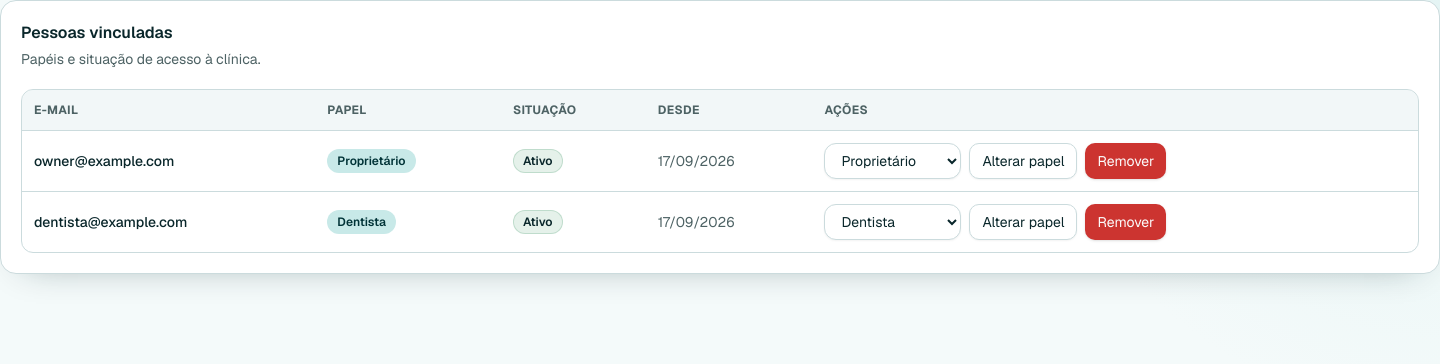
it: MembersTable › lets OWNER change any role
Select "Assistente" in the dropdown named "Novo papel de dentista@example.com". click: (893, 222)
box: left=824, top=204, right=961, bottom=240
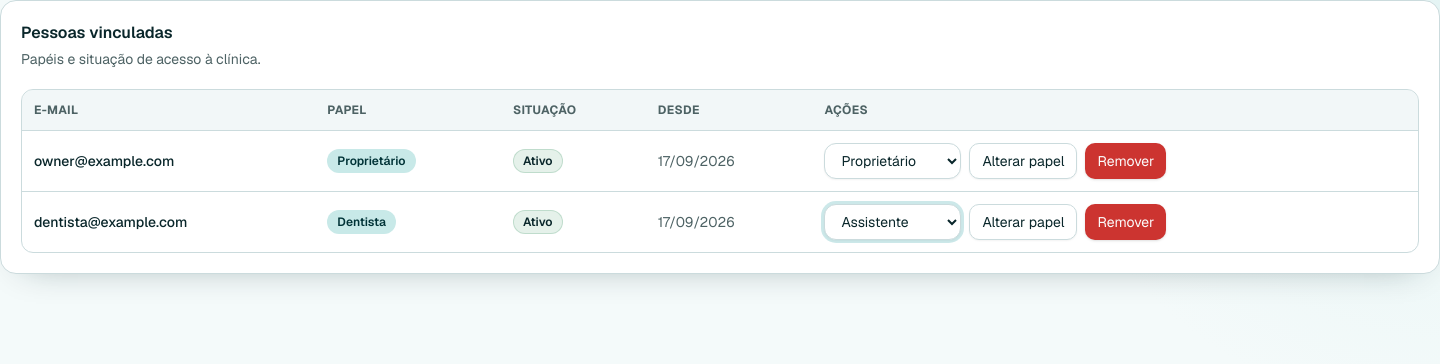
Click the button with aria-label "Alterar papel de dentista@example.com". click: (1023, 222)
box: left=969, top=204, right=1078, bottom=240
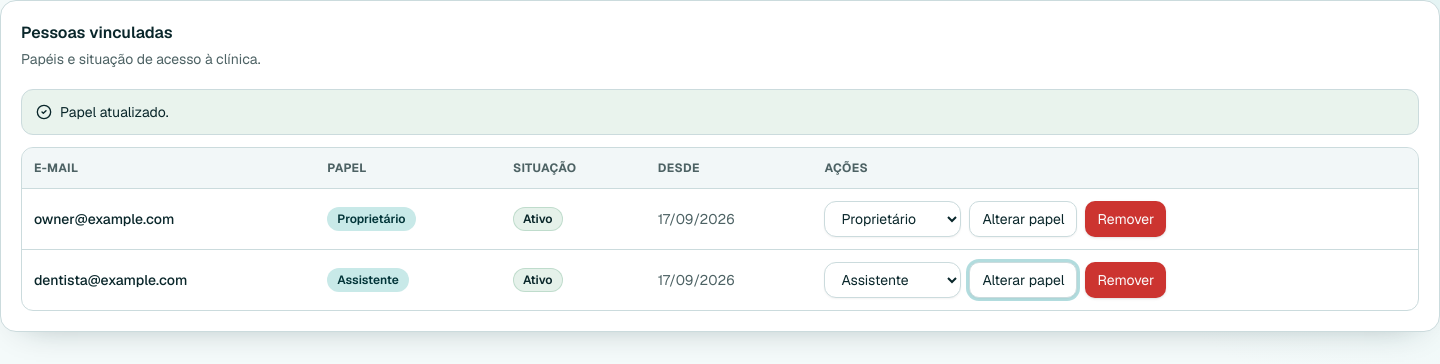
Now the message reads "Papel atualizado.", box left=60, top=103, right=169, bottom=121
